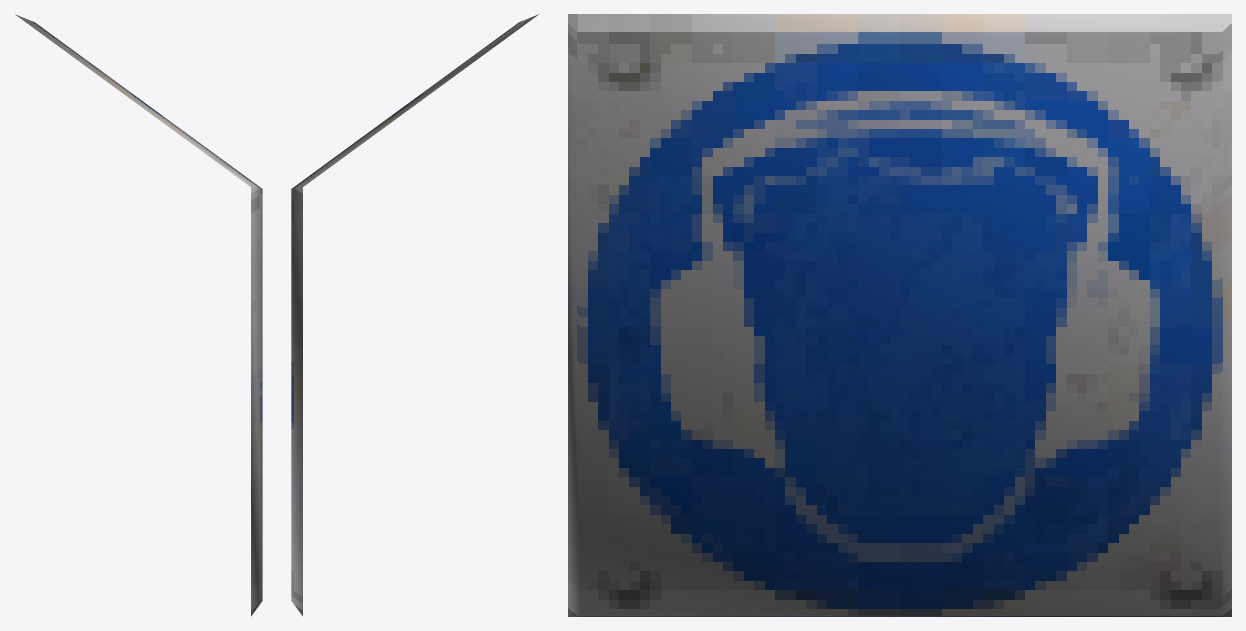
Rendered from Sign_Wear_Ear_Protectors.glb.
3 renders of one model, left to right at view 1: azimuth 30°, elevation 25°; view 2: azimuth 150°, elevation 25°; view 3: azimuth 270°, elevation 25°, orthographic. The views are drawn at different scales.
Visible parts, largest first — view 1: SIGN_WEAR_EAR_PROTECTORS; view 2: SIGN_WEAR_EAR_PROTECTORS; view 3: SIGN_WEAR_EAR_PROTECTORS.
Boxes of the visible parts, x1,y1,x2,y2 form: SIGN_WEAR_EAR_PROTECTORS: (15,14,262,616); SIGN_WEAR_EAR_PROTECTORS: (291,14,538,616); SIGN_WEAR_EAR_PROTECTORS: (568,14,1231,616).
Bounding box in the file's own units: 0.017 × 0.429 × 0.428.
1 material, 1 textured.
